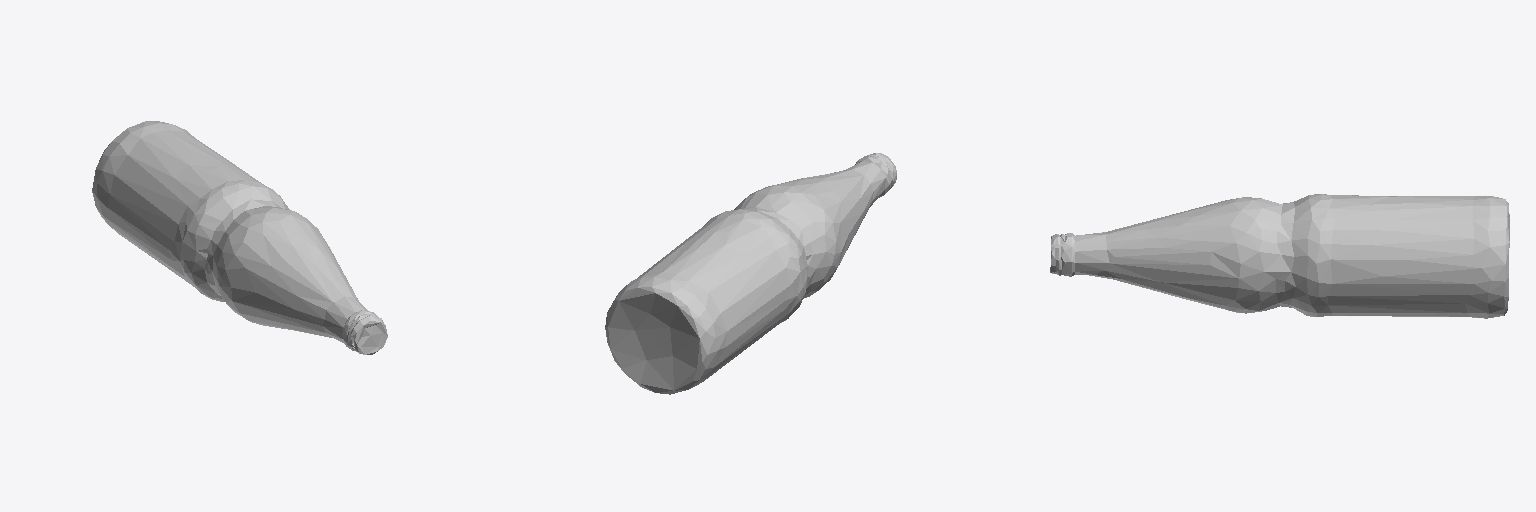
Rendered from bottle9.obj.
3 renders of one model, left to right at view 1: azimuth 30°, elevation 25°; view 2: azimuth 150°, elevation 25°; view 3: azimuth 270°, elevation 25°, orthographic.
Parts seen in each view (by area): view 1: Sprudelflasche_800_tex; view 2: Sprudelflasche_800_tex; view 3: Sprudelflasche_800_tex.
Part boxes in pixels (x1,y1,x2,y2): Sprudelflasche_800_tex: (92,121,387,354); Sprudelflasche_800_tex: (605,153,896,394); Sprudelflasche_800_tex: (1050,194,1509,318).
Size of the model in its own units: 0.0448 by 0.045 by 0.1636.